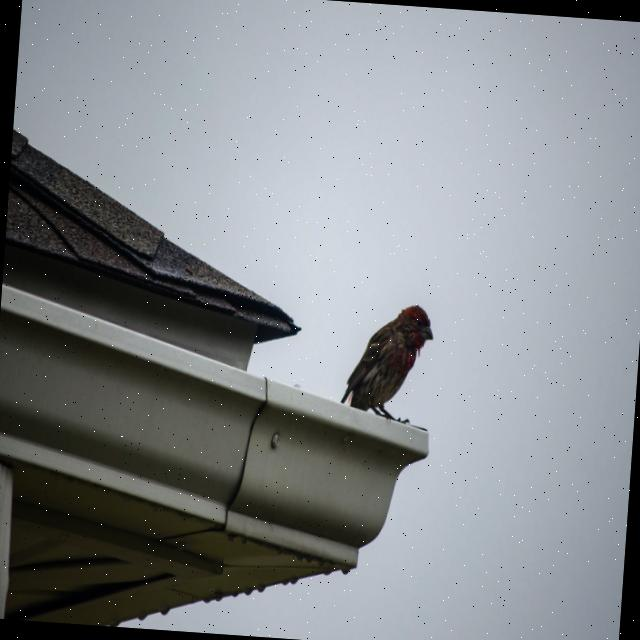bird: (336, 298, 436, 427)
